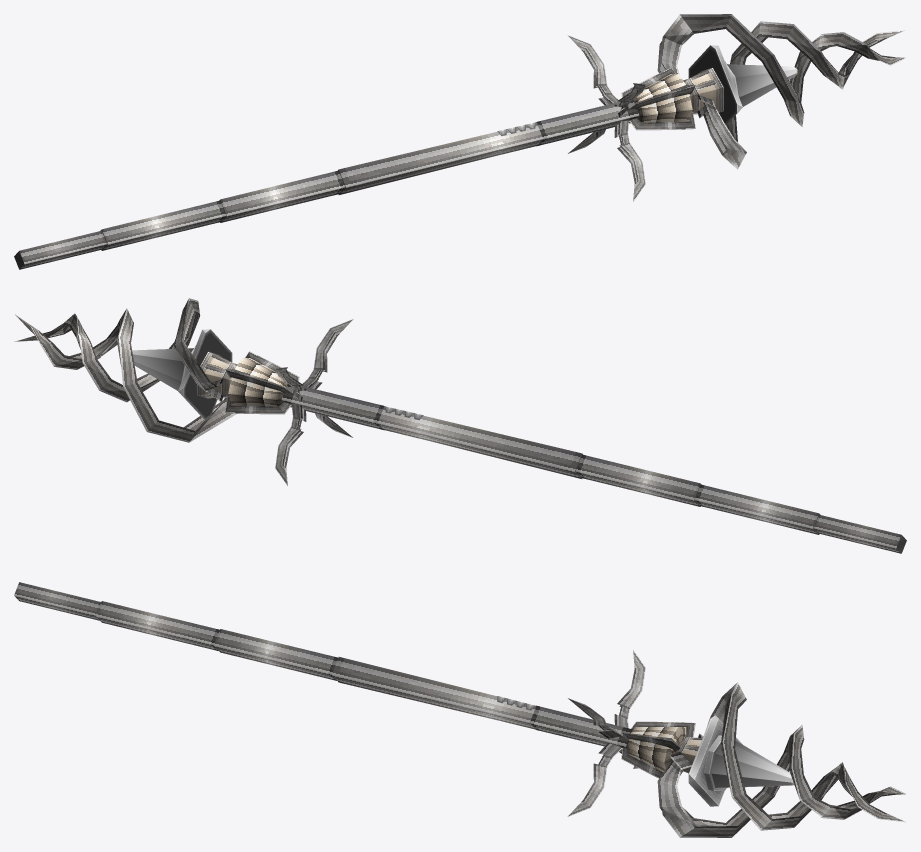
The model's file is arms8062.obj.
The picture shows the model from 3 angles, top to bottom: view 1: azimuth 30°, elevation 25°; view 2: azimuth 150°, elevation 25°; view 3: azimuth 330°, elevation 25°; orthographic projection.
Parts seen in each view (by area): view 1: arms8062; view 2: arms8062; view 3: arms8062.
Part boxes in pixels (x1,y1,x2,y2): arms8062: (14,14,905,269); arms8062: (14,298,906,553); arms8062: (14,582,905,837).
Size of the model in its own units: 3.35 by 0.522 by 0.4313.
Materials: 1 (1 with a texture image).
